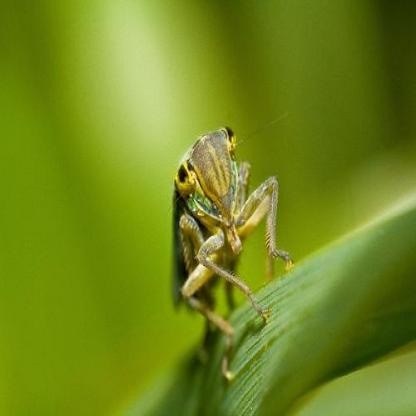Green-Leafhopper: (167, 123, 298, 387)
